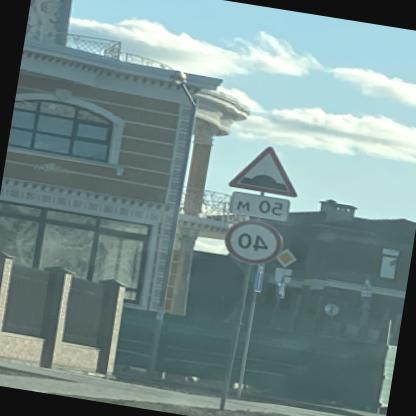speedlimit: (224, 216, 287, 267)
